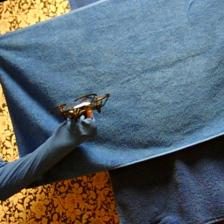drone: (52, 92, 111, 124)
